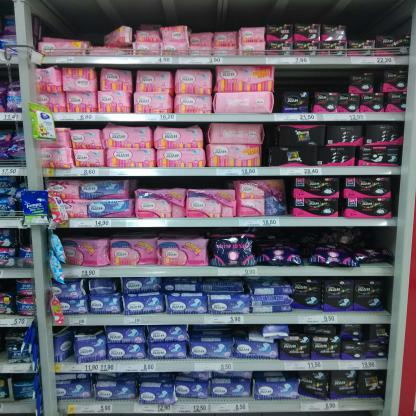Void: (282, 71, 342, 91), (258, 228, 324, 246), (354, 10, 400, 34), (142, 176, 233, 188), (51, 14, 100, 36), (195, 326, 245, 336), (366, 231, 392, 247)
